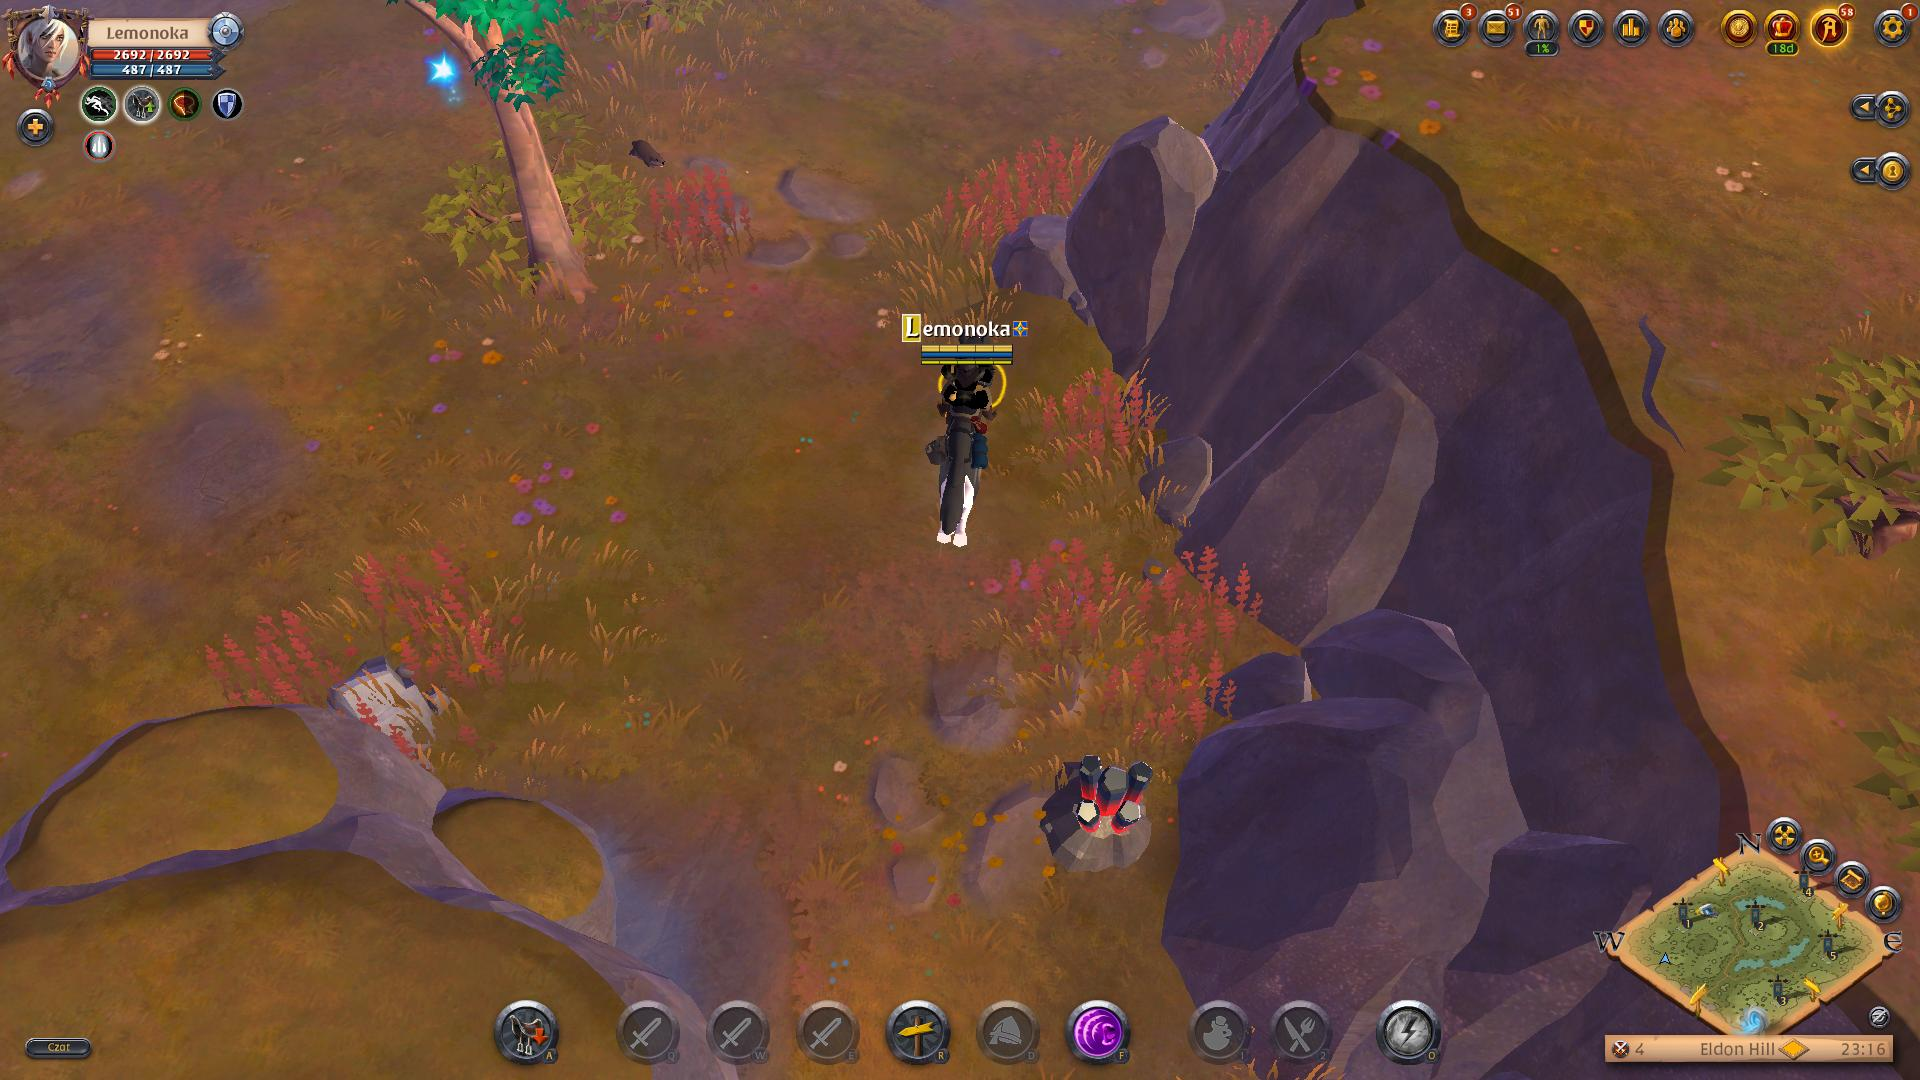ore tier 5: (1035, 748, 1160, 878)
rock tier 1: (318, 655, 444, 769)
